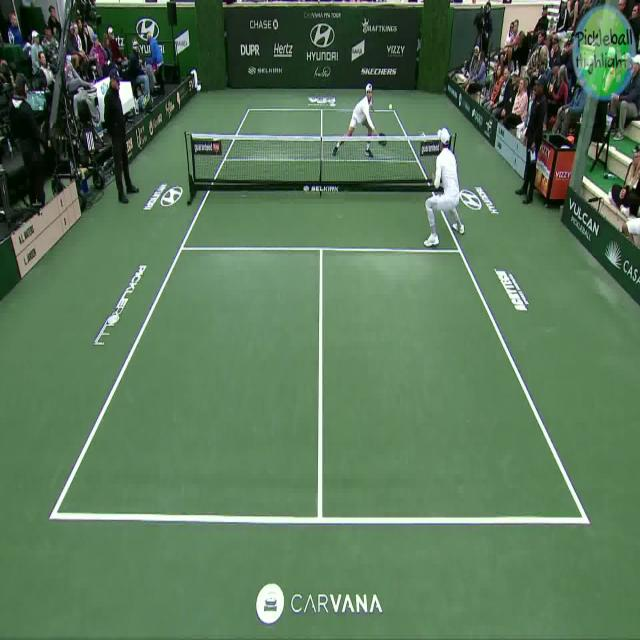ball: (388, 96, 399, 120)
